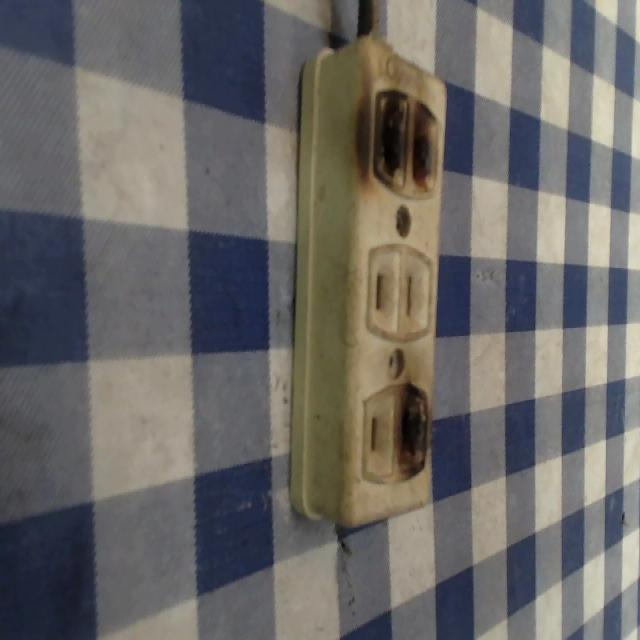-: (350, 80, 446, 201), (390, 382, 435, 482)
